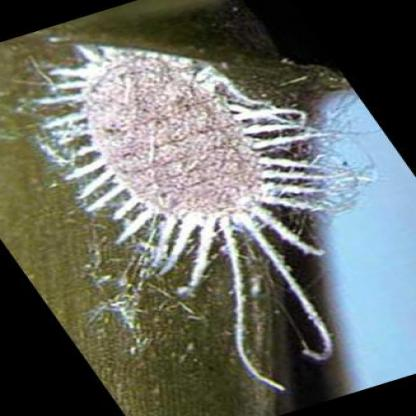mealy bug: (54, 43, 348, 357)
